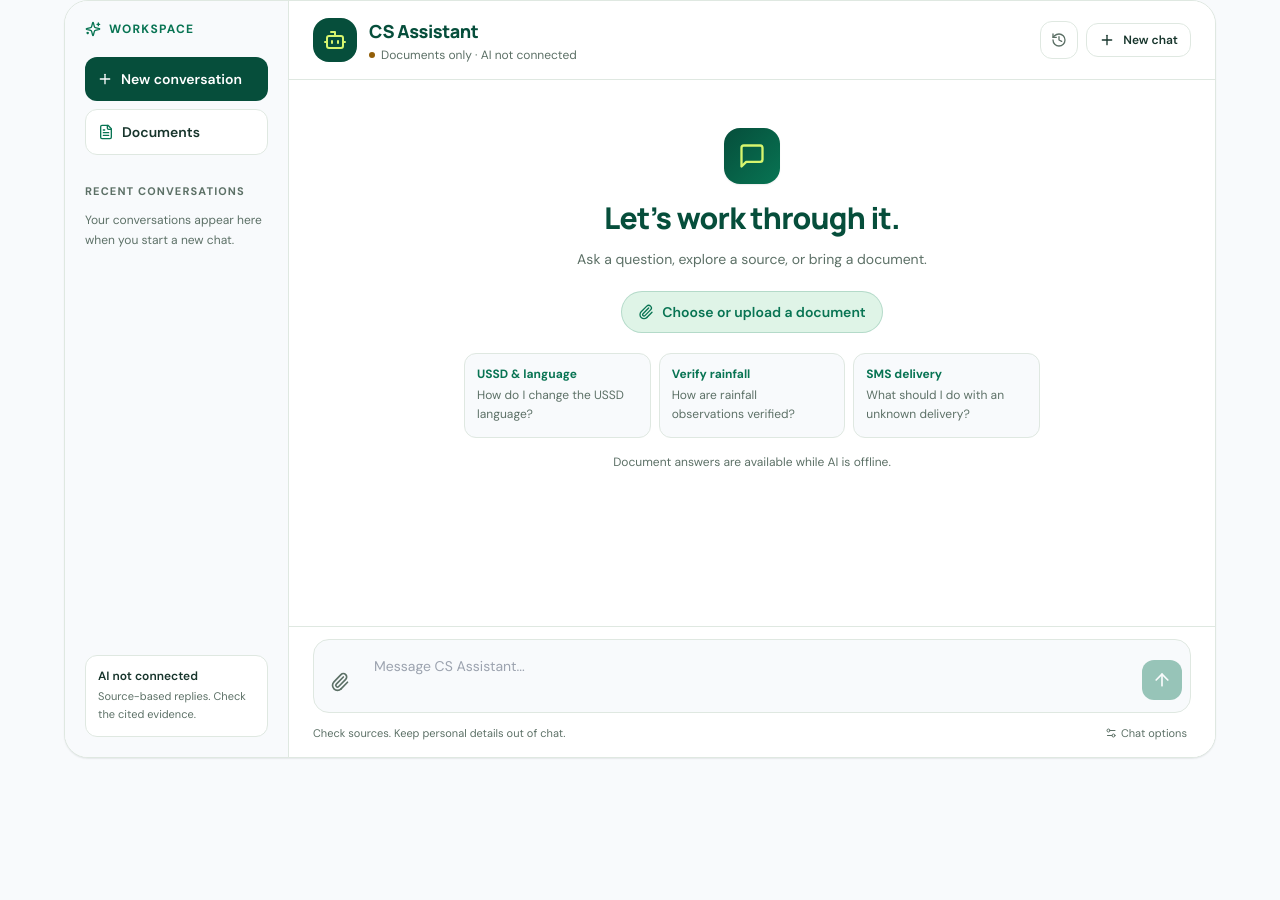
it: records only categorical feedback and reports clipboard errors
This screenshot has width=1280, height=900.
Type "USSD language" into the text box named "Your question". click: (750, 676)
box: [366,648,1134,704]
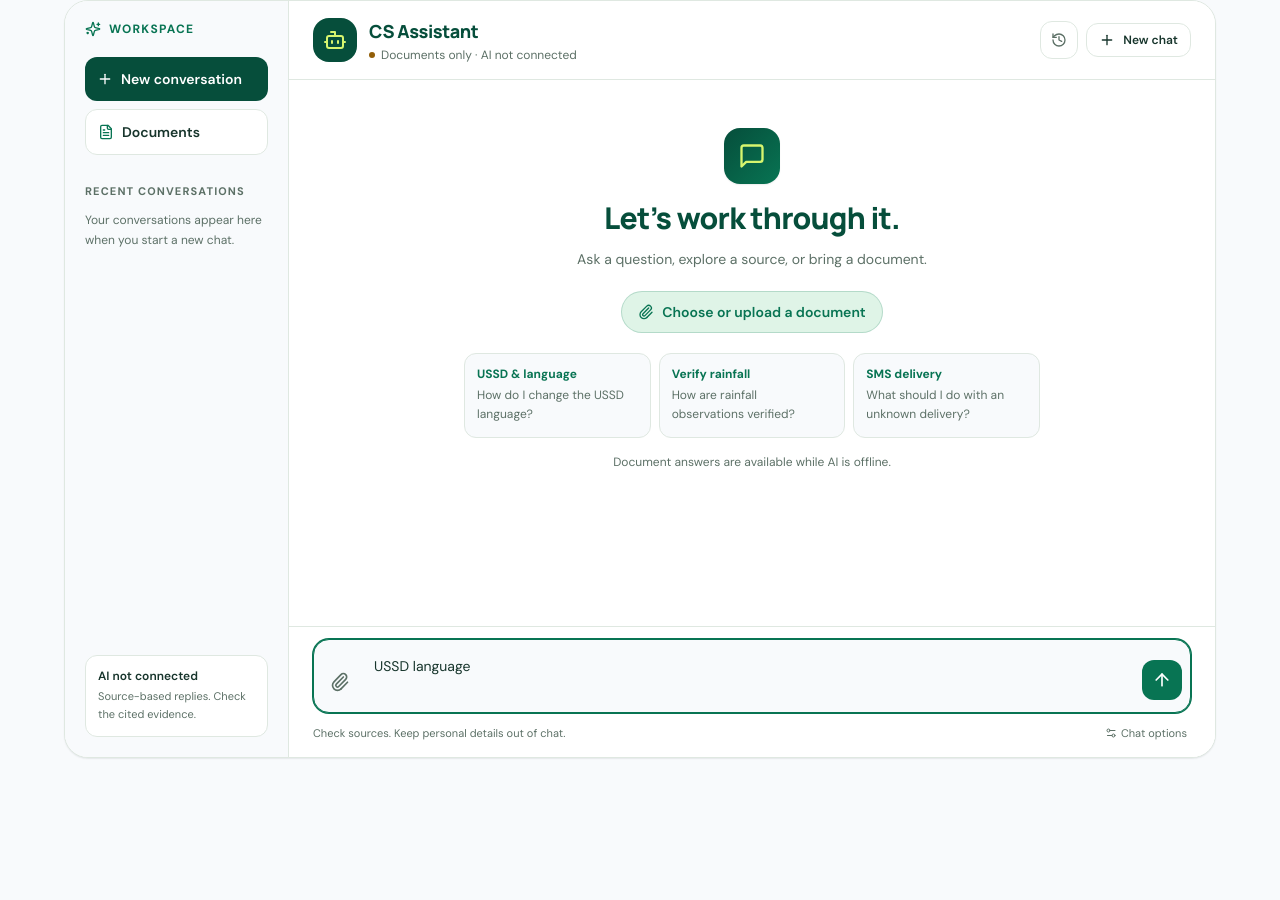
Click the button named "Ask assistant". click: (1162, 680)
box: [1142,660,1182,700]
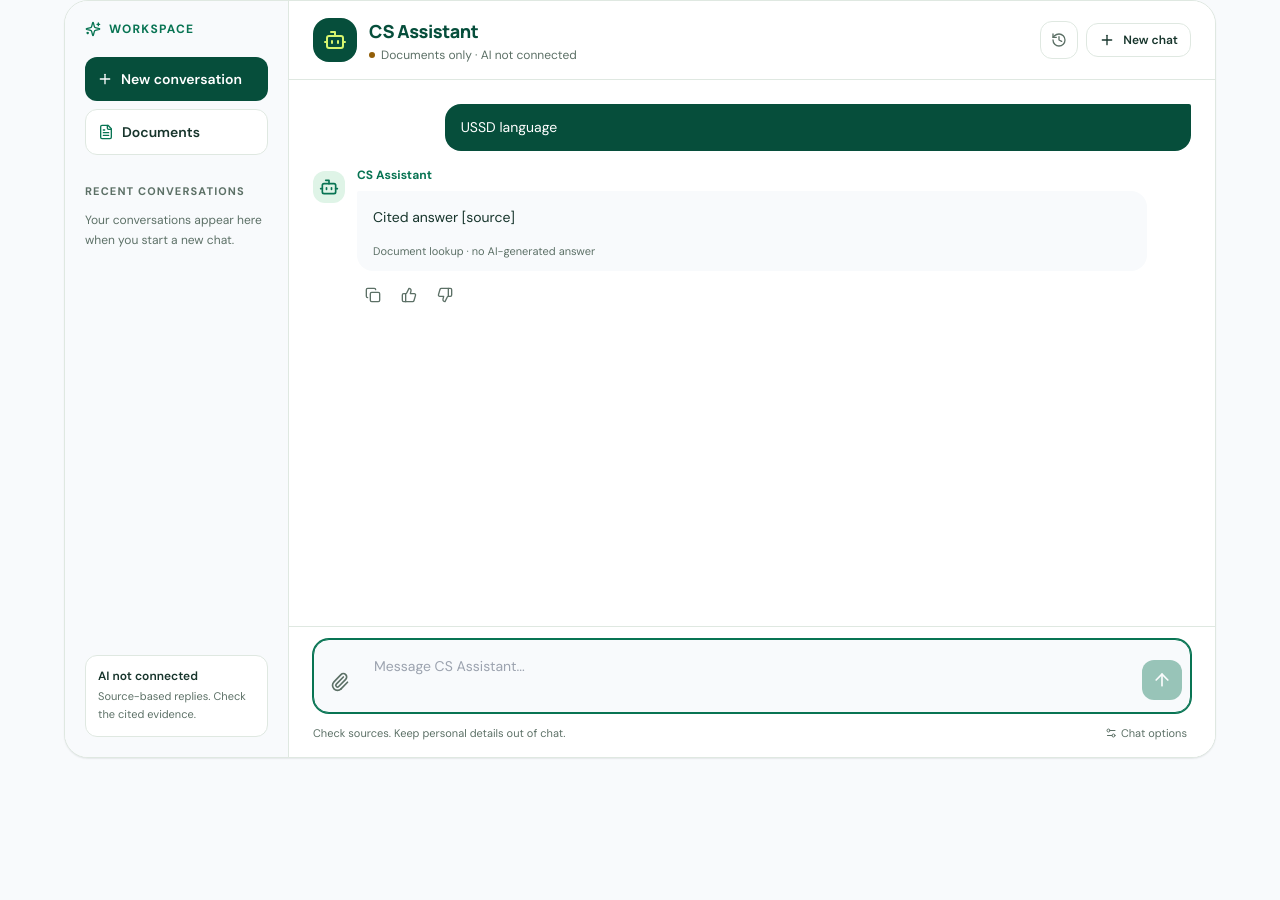
Click the button named "Copy answer". click: (373, 295)
box: [357,279,389,311]
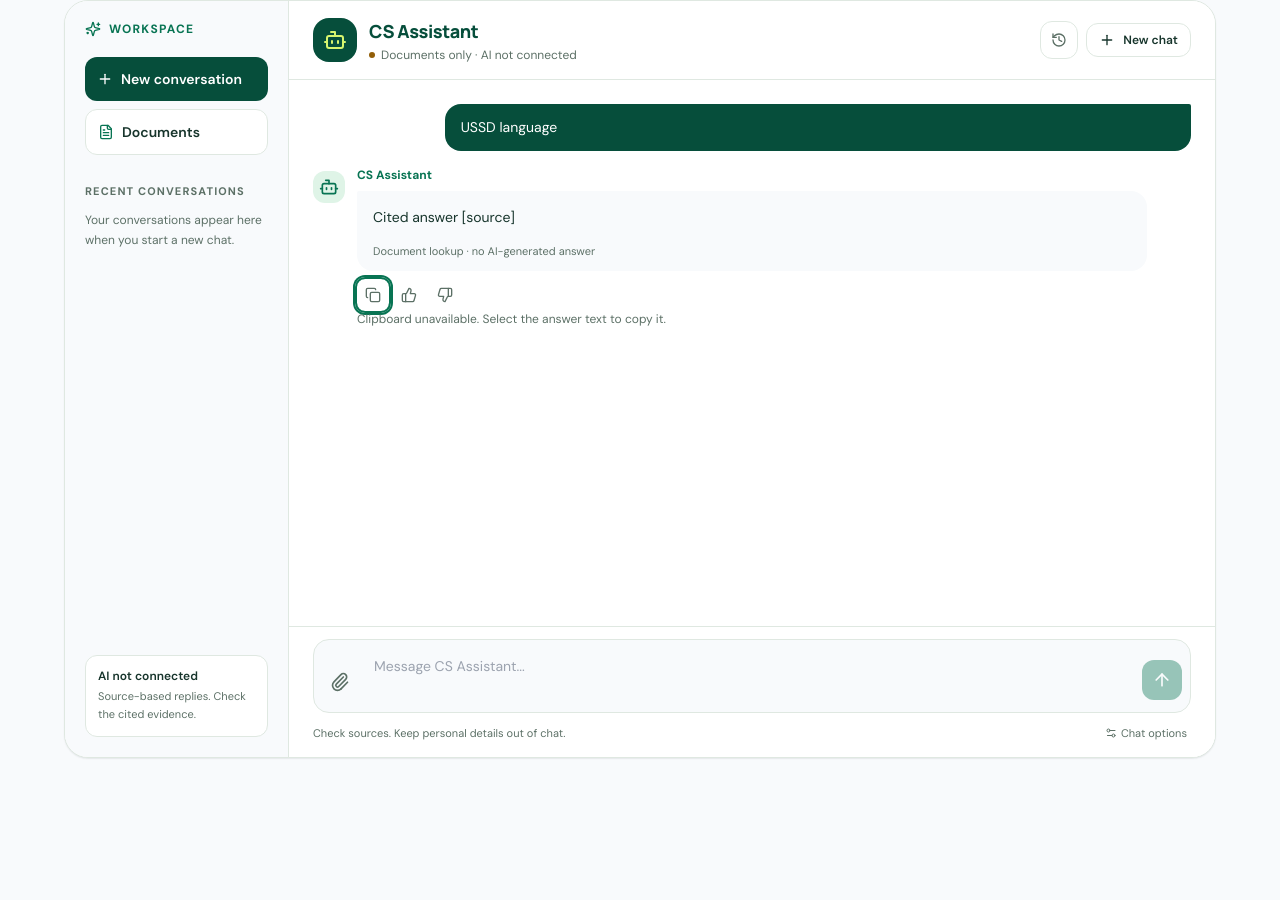
Expected: the text "Clipboard unavailable. Select the answer text to copy it." is shown, [357,311,666,327]
Click the button named "Helpful". click: (409, 295)
box: [393,279,425,311]
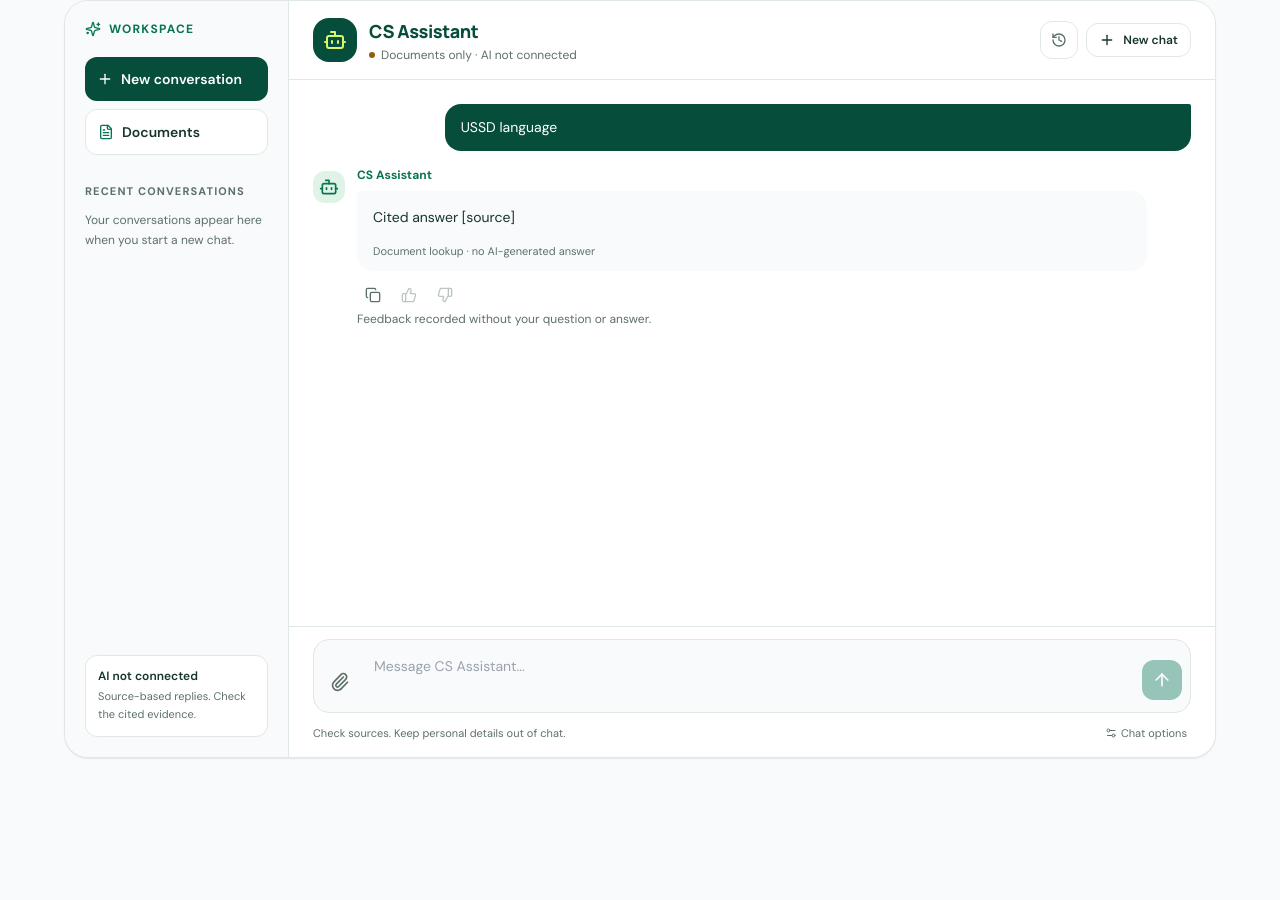
Expected: the text "Feedback recorded without your question or answer." is shown, [357,311,651,327]
